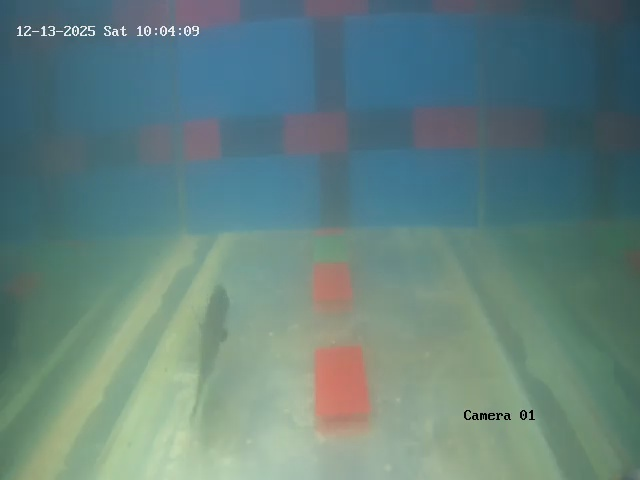fish: (186, 282, 235, 387)
